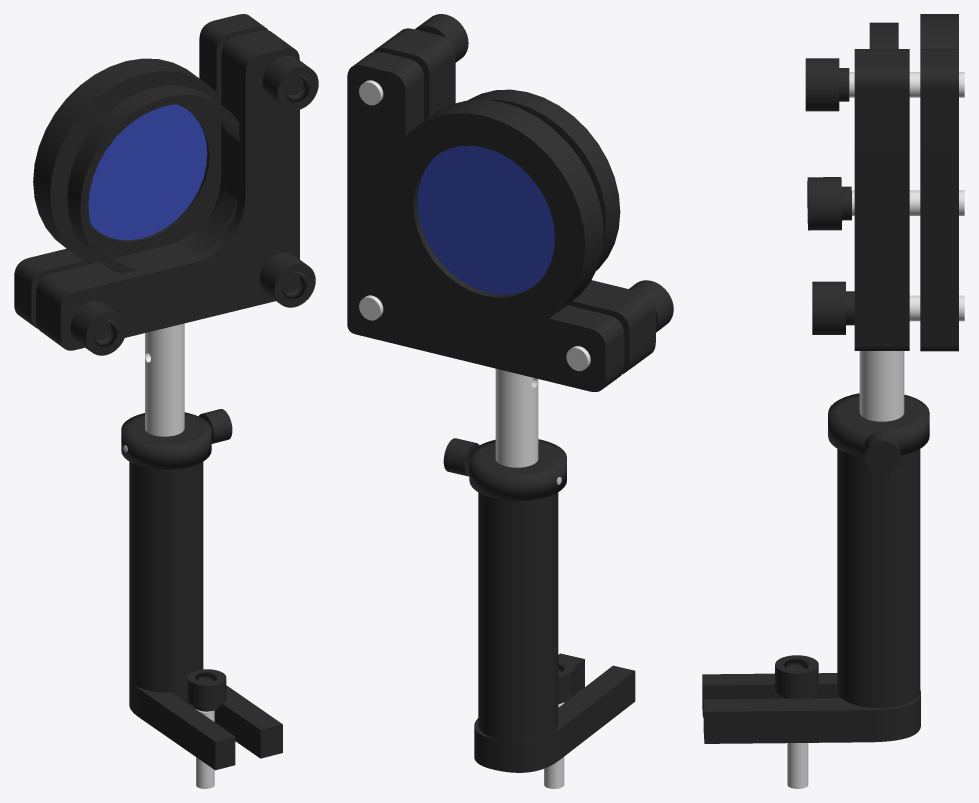
The model's file is 半反半透镜.fbx.
The picture shows the model from 3 angles, left to right: view 1: azimuth 30°, elevation 25°; view 2: azimuth 150°, elevation 25°; view 3: azimuth 270°, elevation 25°; orthographic projection. The views are drawn at different scales.
Visible parts, largest first — view 1: Box894, Cylinder3386, Cylinder3390, Cylinder3400, Cylinder3401, Box895, Cylinder3389, Cylinder3395, Cylinder3398, Cylinder3392, Cylinder3403, Cylinder3387 (+1 smaller); view 2: Cylinder3390, Cylinder3386, Cylinder3400, Box895, Box894, Cylinder3401, Cylinder3389, Cylinder3398, Cylinder3392, Cylinder3387, Cylinder3403; view 3: Cylinder3386, Box894, Cylinder3390, Box895, Cylinder3389, Cylinder3392, Cylinder3398, Cylinder3395, Cylinder3403, Cylinder3387, Cylinder3402, Cylinder3401 (+3 smaller).
Part boxes in pixels (x1,y1,x2,y2): Box894: [36, 30, 299, 350]; Cylinder3386: [121, 412, 211, 693]; Cylinder3390: [14, 14, 267, 328]; Cylinder3400: [88, 104, 207, 240]; Cylinder3401: [67, 85, 239, 274]; Box895: [129, 679, 282, 770]; Cylinder3389: [145, 323, 184, 436]; Cylinder3395: [259, 252, 315, 307]; Cylinder3398: [262, 55, 318, 110]; Cylinder3392: [70, 300, 126, 355]; Cylinder3403: [187, 669, 226, 711]; Cylinder3387: [198, 409, 232, 443]; Cylinder3390: [347, 51, 624, 391]; Cylinder3386: [469, 439, 566, 742]; Cylinder3400: [417, 145, 554, 294]; Box895: [474, 653, 635, 772]; Box894: [373, 28, 655, 374]; Cylinder3401: [468, 89, 620, 270]; Cylinder3389: [495, 368, 538, 467]; Cylinder3398: [415, 14, 468, 62]; Cylinder3392: [629, 280, 673, 332]; Cylinder3387: [443, 438, 479, 476]; Cylinder3403: [558, 659, 574, 704]; Cylinder3386: [828, 393, 929, 708]; Box894: [854, 49, 909, 350]; Cylinder3390: [920, 14, 958, 351]; Box895: [702, 673, 920, 743]; Cylinder3389: [859, 351, 904, 421]; Cylinder3392: [807, 177, 851, 230]; Cylinder3398: [805, 58, 849, 111]; Cylinder3395: [812, 281, 854, 334]; Cylinder3403: [775, 655, 818, 698]; Cylinder3387: [864, 430, 900, 473]; Cylinder3402: [787, 743, 808, 788]; Cylinder3401: [869, 22, 898, 48].
Size of the model in its own units: 15.85 by 43.82 by 13.4.
